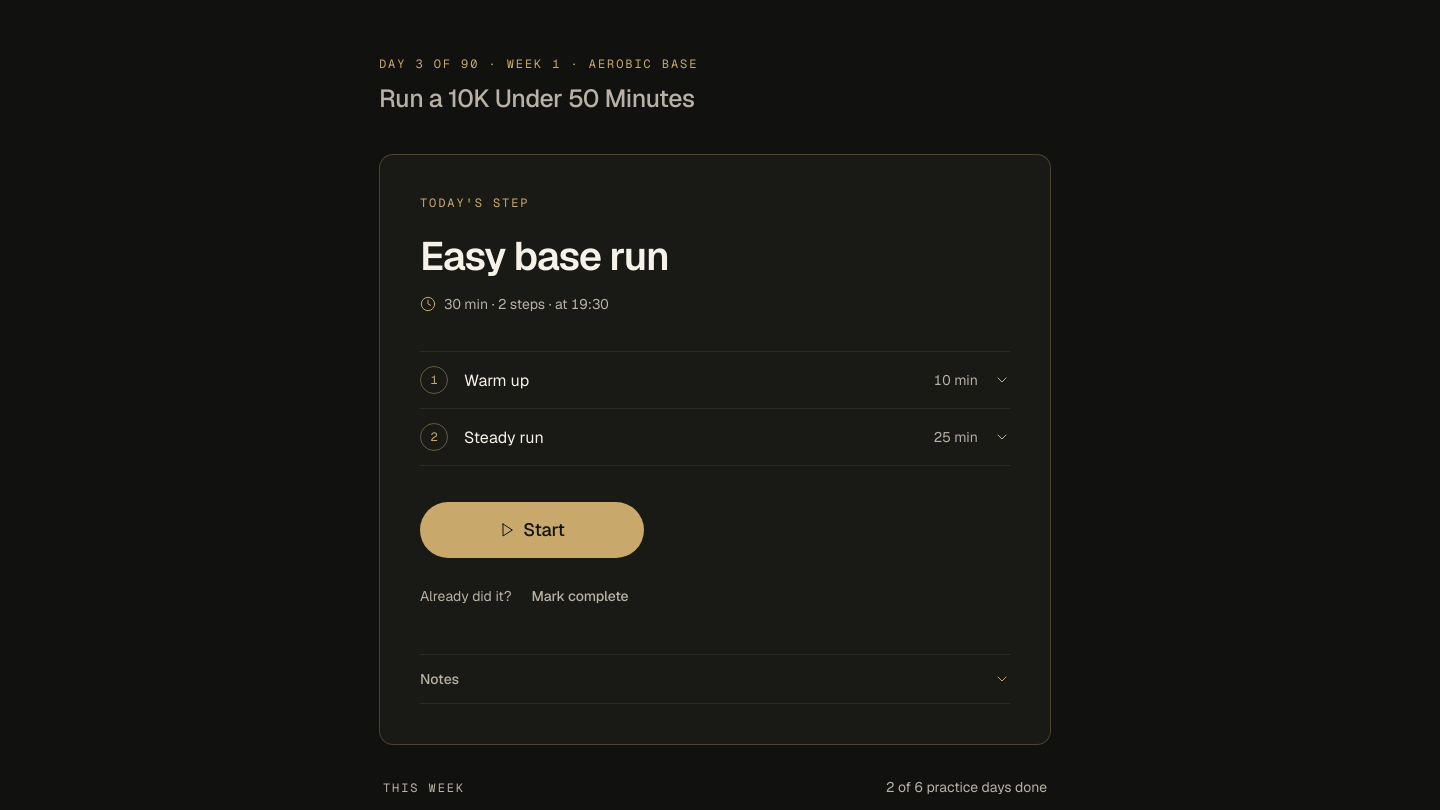
Today › Start opens focus mode for this step
Click the button "Start".
click(532, 530)  # box left=420, top=502, right=644, bottom=558
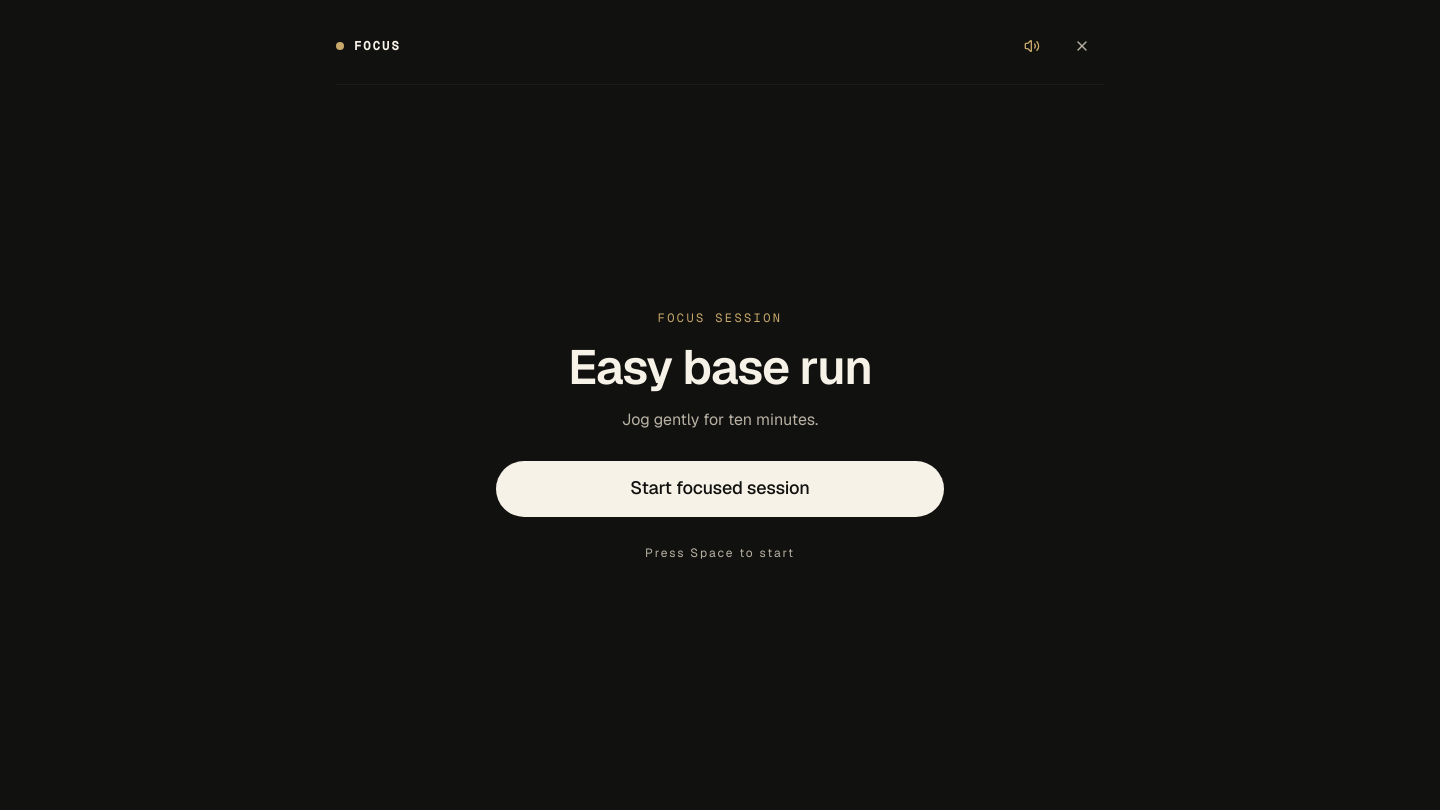
expect the button named "Exit focus mode (Esc)" is shown: met, box left=1060, top=24, right=1104, bottom=68
